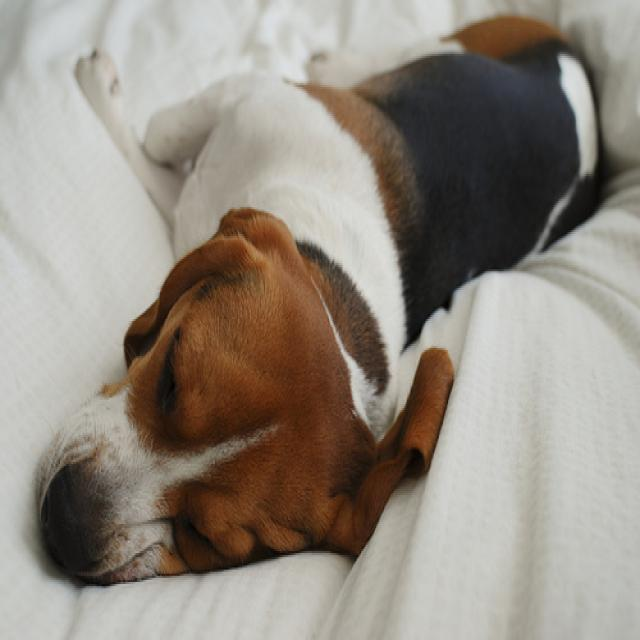dog-beagle: (31, 4, 616, 597)
